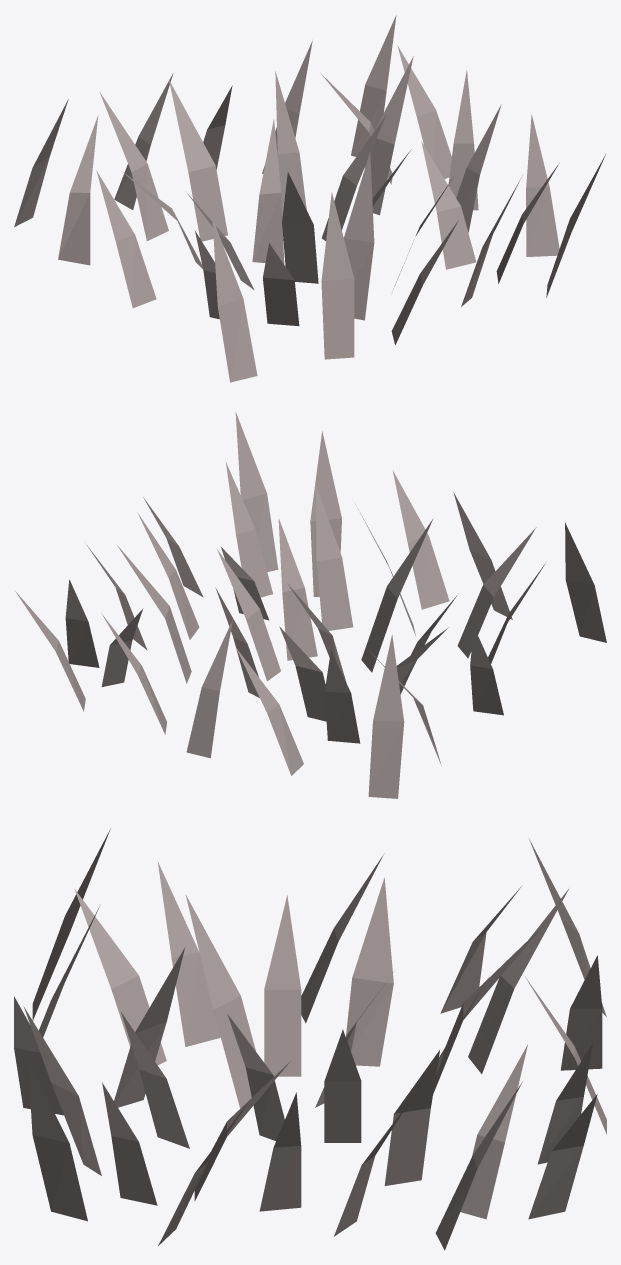
3 renders of one model, top to bottom at view 1: azimuth 30°, elevation 25°; view 2: azimuth 150°, elevation 25°; view 3: azimuth 270°, elevation 25°, orthographic. The views are drawn at different scales.
Bounding box in the file's own units: 127 × 44 × 128.
1 material, 1 textured.
